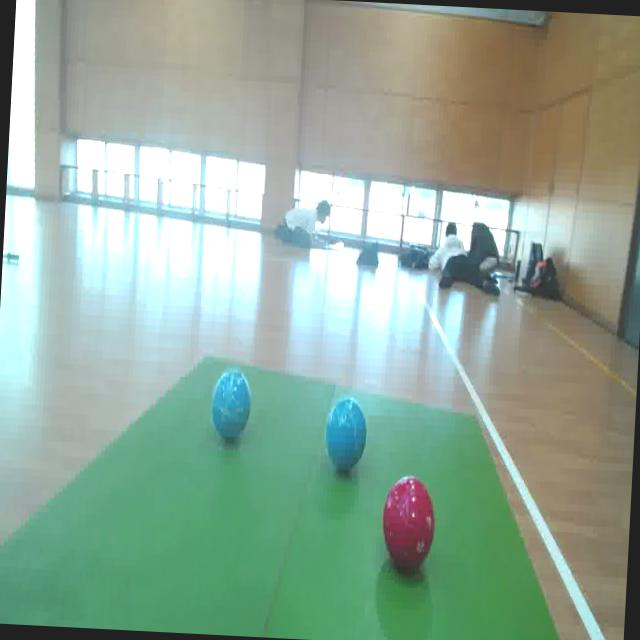blue_ball: (323, 394, 369, 473), (207, 368, 253, 437)
red_ball: (377, 474, 443, 578)
